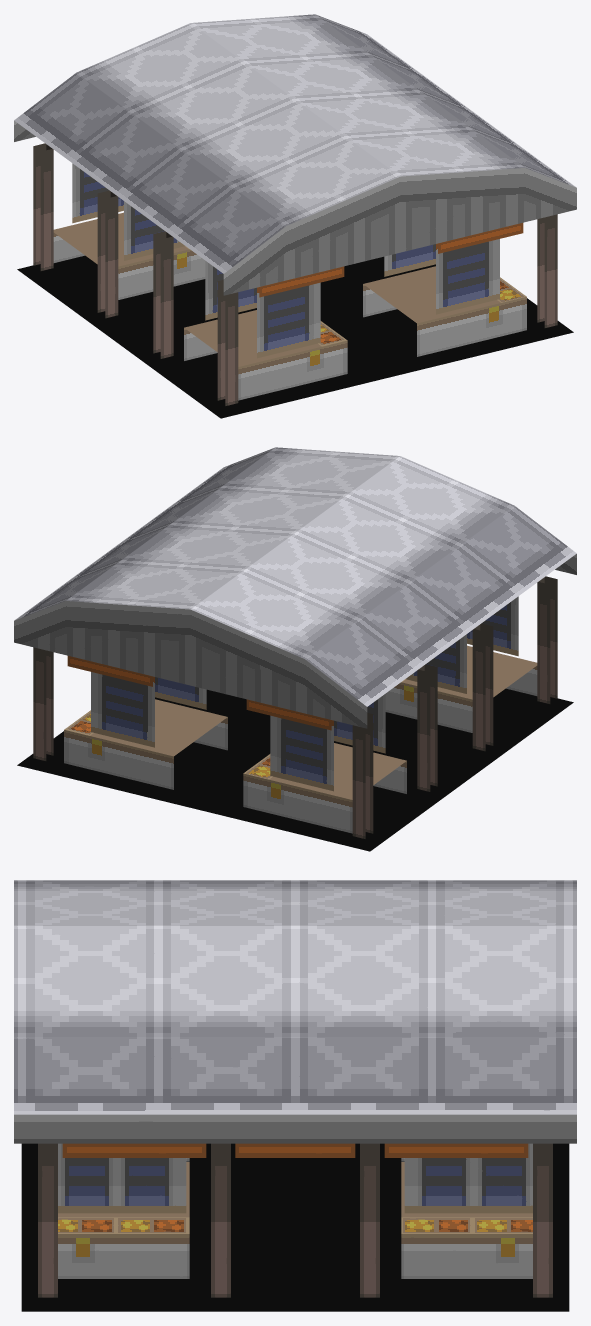
File: Driftveil Market.obj
3 renders of one model, top to bottom at view 1: azimuth 30°, elevation 25°; view 2: azimuth 150°, elevation 25°; view 3: azimuth 270°, elevation 25°, orthographic. The views are drawn at different scales.
Visible parts, largest first — view 1: polygon0, polygon2, polygon3, polygon1; view 2: polygon0, polygon2, polygon3, polygon1; view 3: polygon0, polygon1, polygon3, polygon2.
Part boxes in pixels (bbox=[...]): polygon0: bbox=[14, 14, 576, 273]; polygon2: bbox=[14, 121, 576, 405]; polygon3: bbox=[53, 163, 526, 400]; polygon1: bbox=[17, 255, 573, 418]; polygon0: bbox=[14, 447, 576, 706]; polygon2: bbox=[14, 554, 576, 838]; polygon3: bbox=[64, 596, 537, 833]; polygon1: bbox=[17, 688, 573, 851]; polygon0: bbox=[14, 880, 576, 1114]; polygon1: bbox=[21, 1143, 569, 1311]; polygon3: bbox=[58, 1143, 532, 1278]; polygon2: bbox=[14, 1114, 576, 1297].
Bounding box in the file's own units: 136 × 74 × 140.
